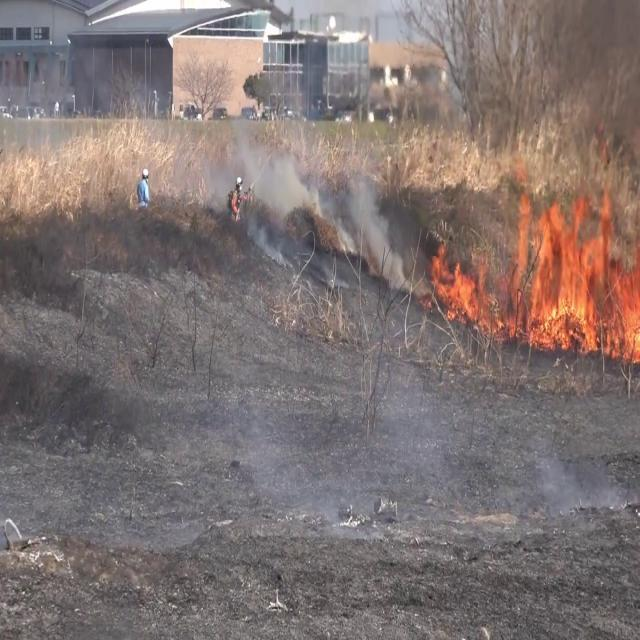Fire: (508, 191, 640, 357), (428, 246, 496, 332)
Smoke: (216, 97, 404, 289)
